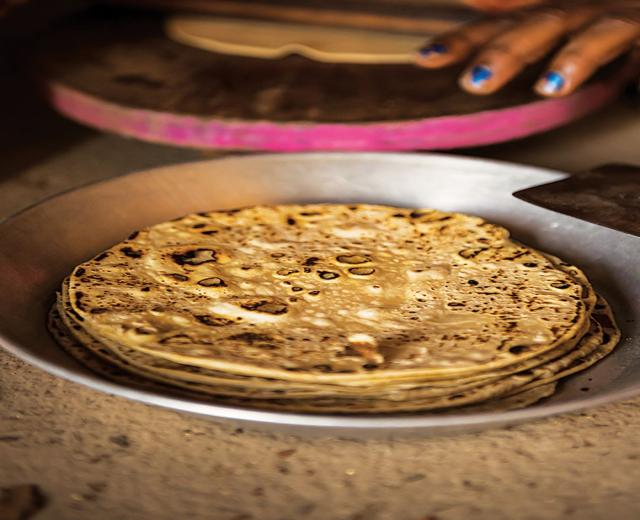chapati: (51, 204, 619, 413)
